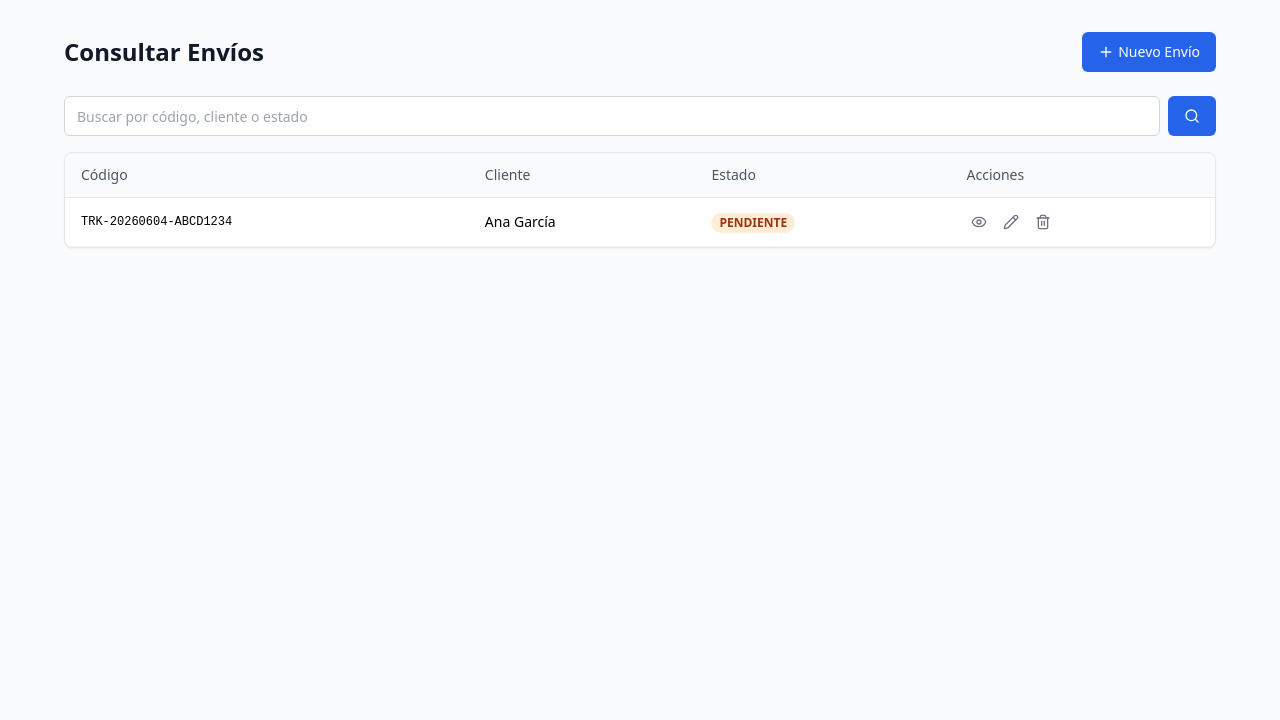
Test: ConsultarEnvios component › R33 — debe mostrar Toast de error cuando DELETE devuelve 409
The width and height of the screenshot is (1280, 720).
What coordinates should you click on to do the following:
click the button named "eliminar envío"
I would click on:
 (1042, 222)
Its box is [1030,210,1054,234].
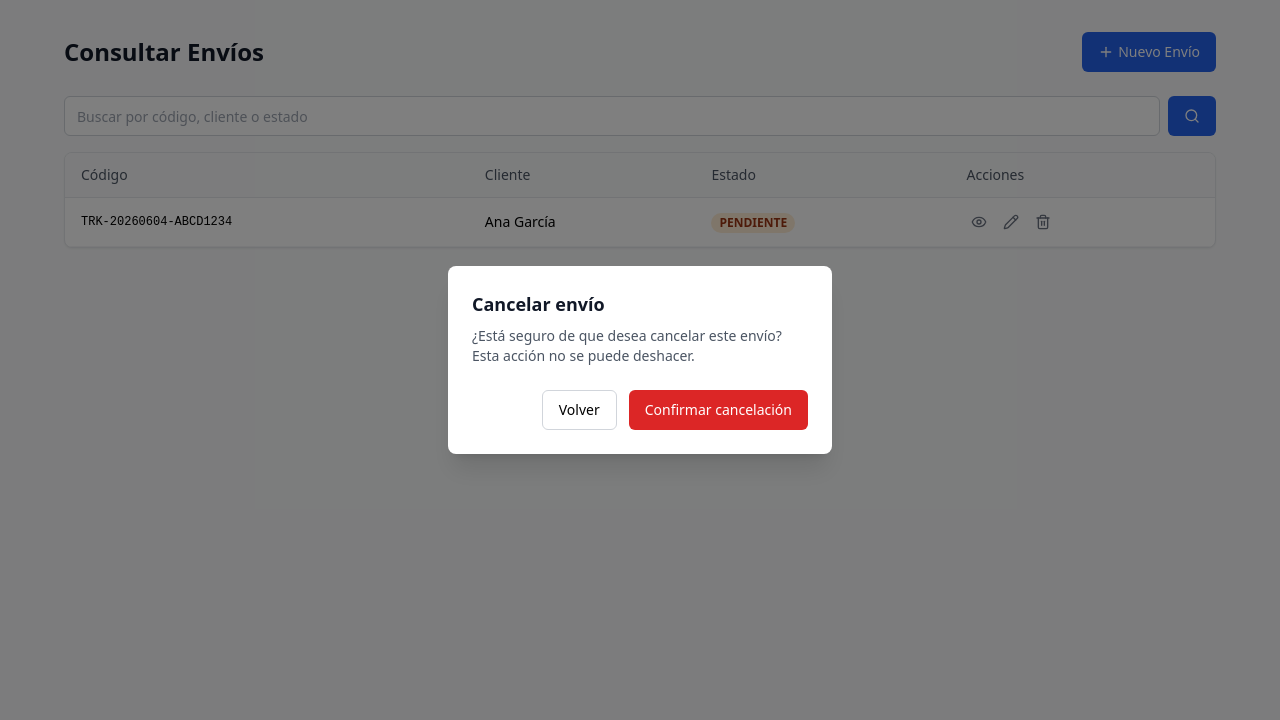
Result: the dialog "Cancelar envío" is shown
What coordinates should you click on to do the following:
click the button "Confirmar cancelación"
I would click on:
 (718, 410)
Its box is [629,390,808,430].
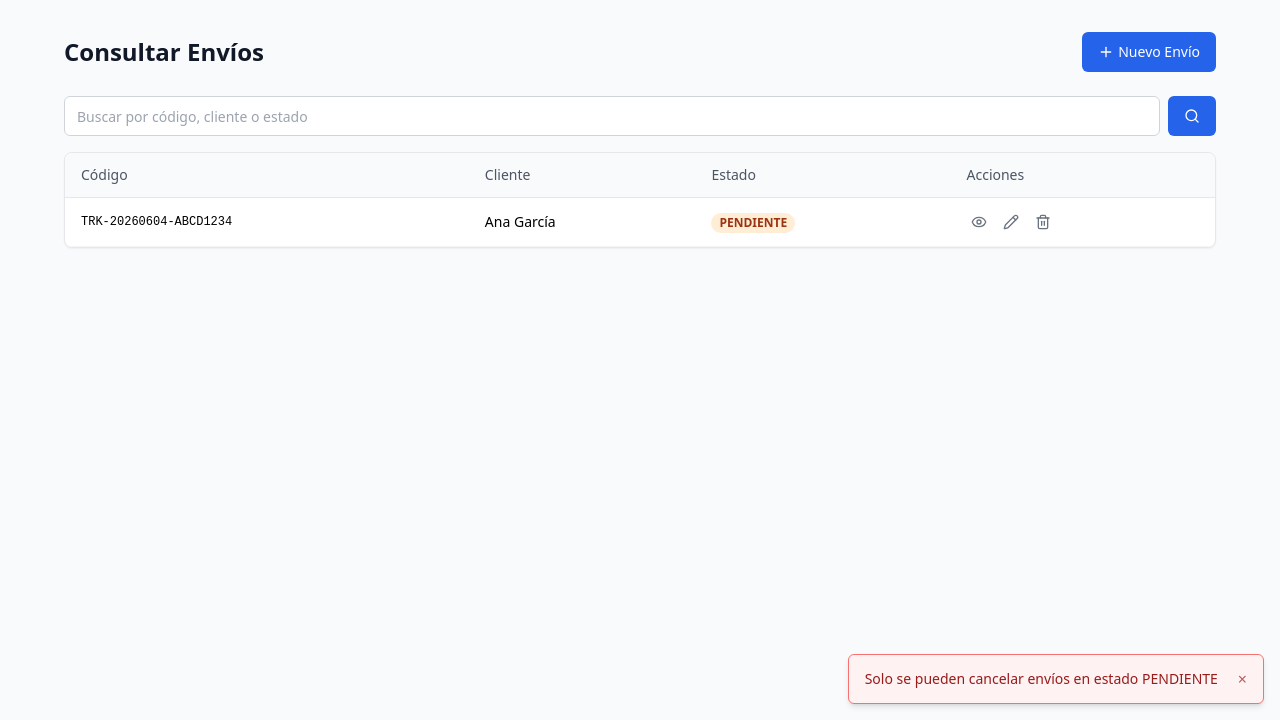
Result: the message shows "Solo se pueden cancelar envíos en estado PENDIENTE" at [865,669,1218,688]
